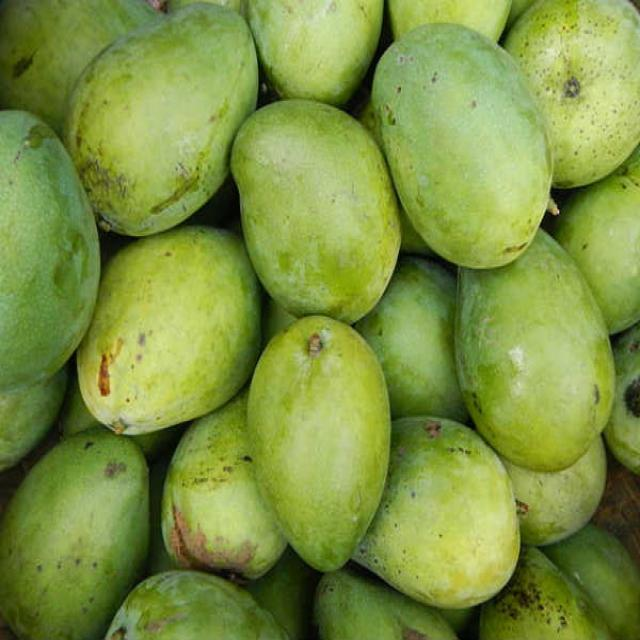raw-image: (0, 114, 71, 376), (385, 45, 525, 146), (316, 576, 381, 640), (56, 431, 128, 465)
